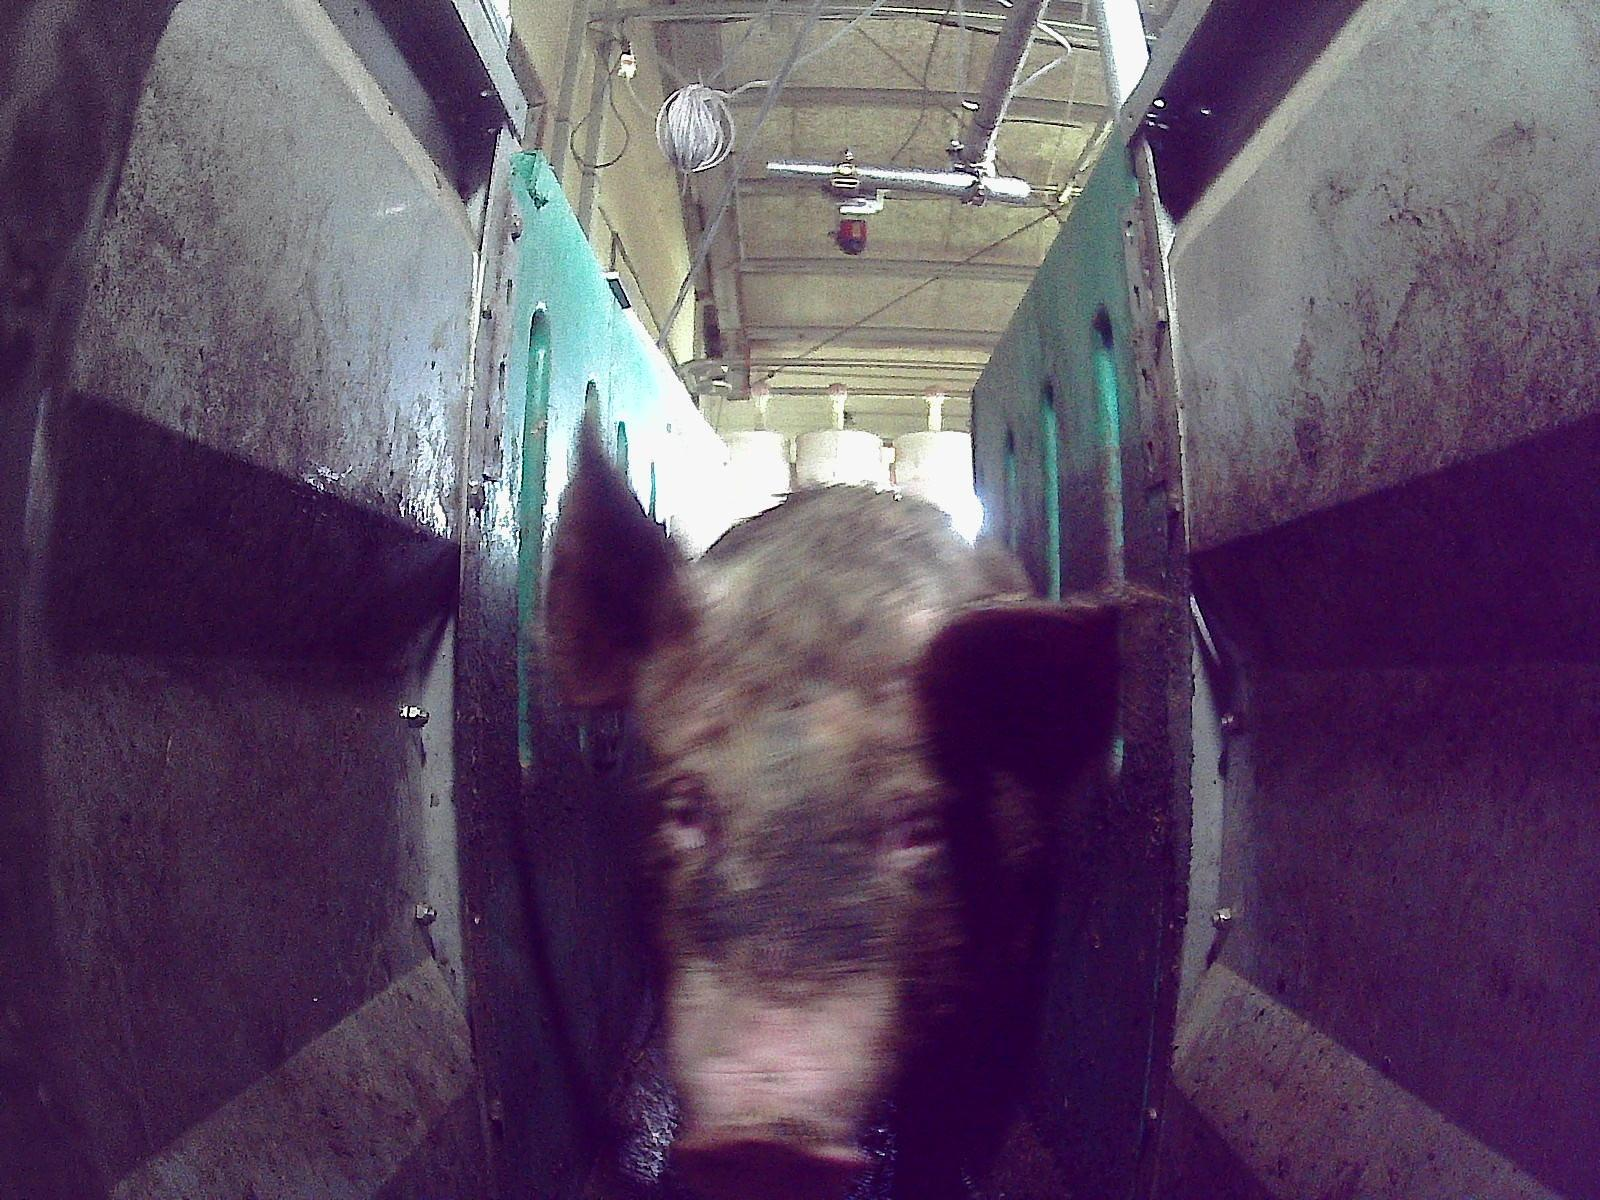Face: (627, 618, 1000, 1199)
